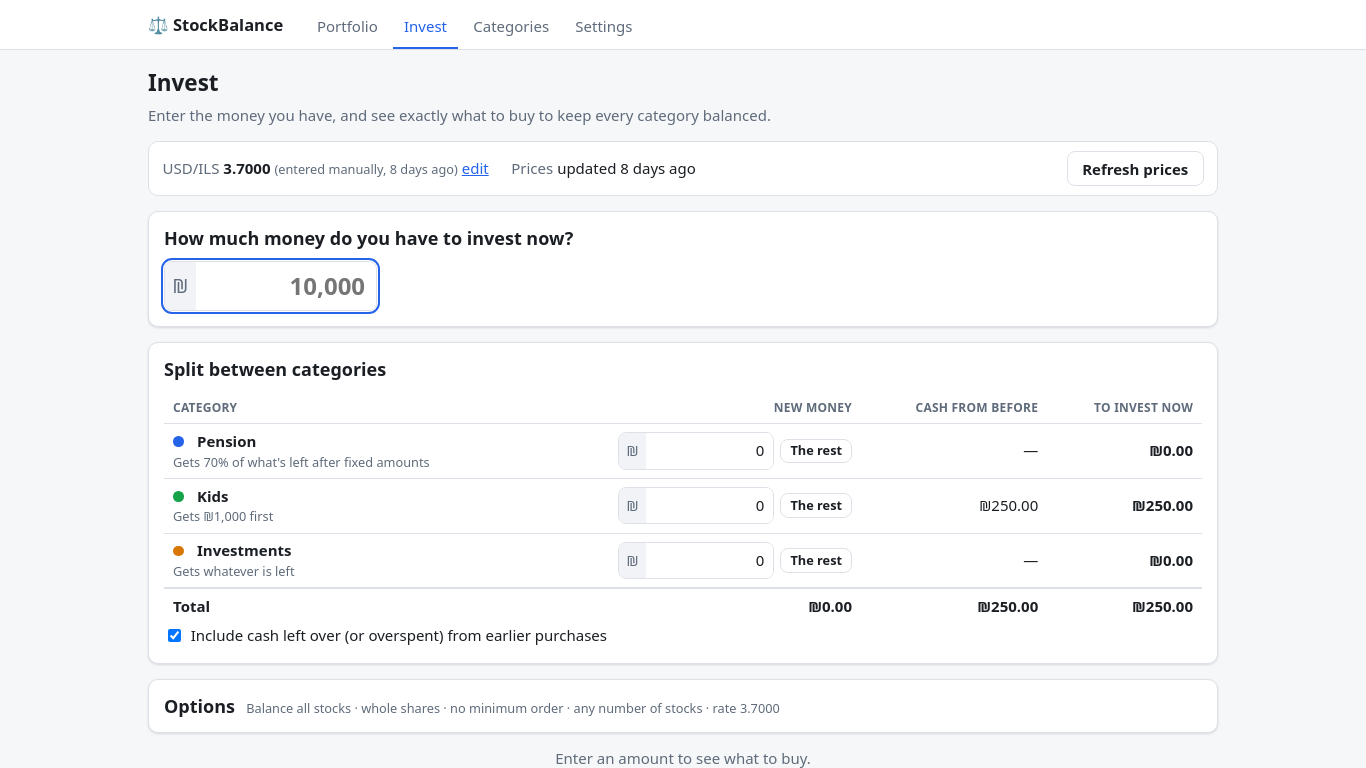
Test: InvestPage › records the purchase into holdings, cash and the purchase list, and can undo it
In the field named "Amount to invest in ILS": [286, 286] box [196, 262, 376, 310], type "10000"
(page scrolled)
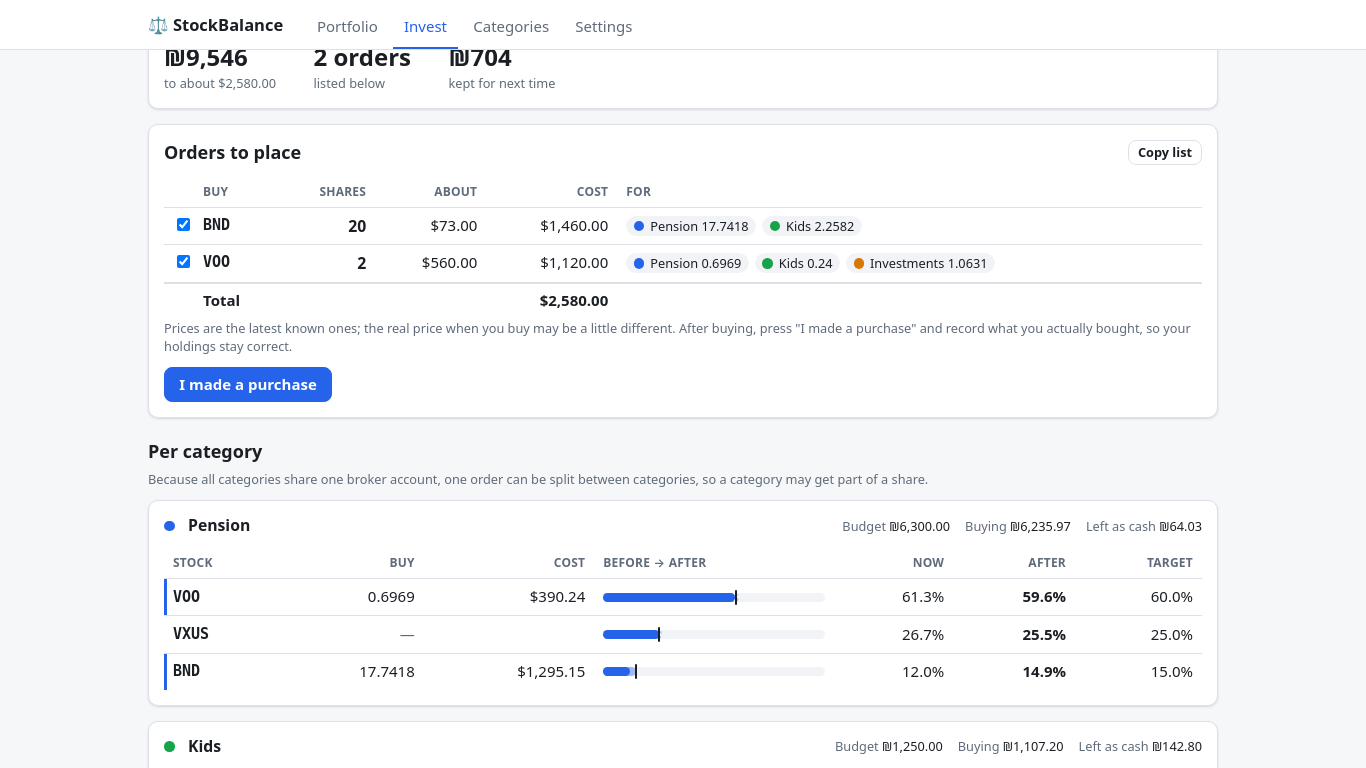
Click the button "I made a purchase": [248, 384] box [164, 367, 332, 402]
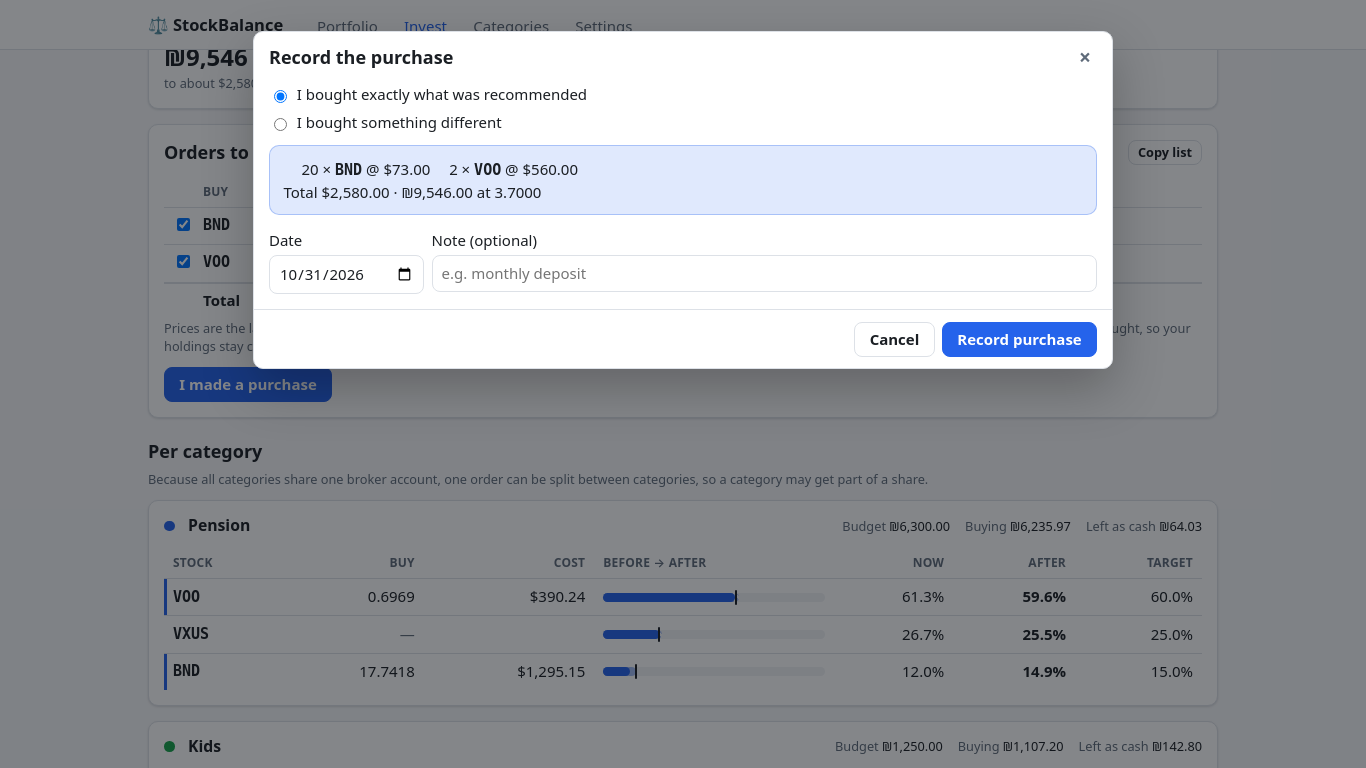
Click the button "Record purchase": [1020, 339] box [942, 322, 1097, 357]
(page scrolled)
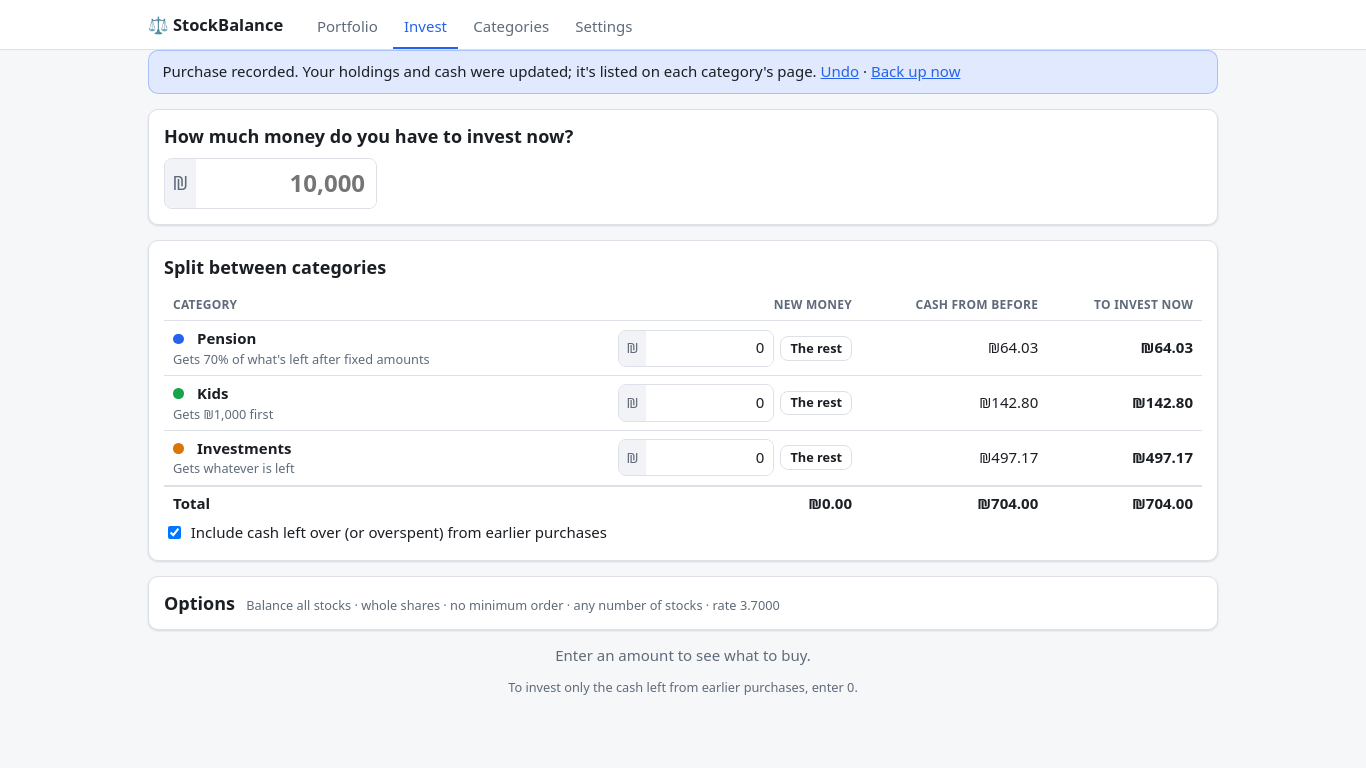
Expected: the dialog is gone
Expected: the text "Purchase recorded" is shown, [162, 61, 817, 81]
Expected: the field named "Amount to invest in ILS" is empty, [196, 159, 376, 208]
// A mistake can be undone right away.
Click the button "Undo": [840, 71] box [820, 62, 859, 80]
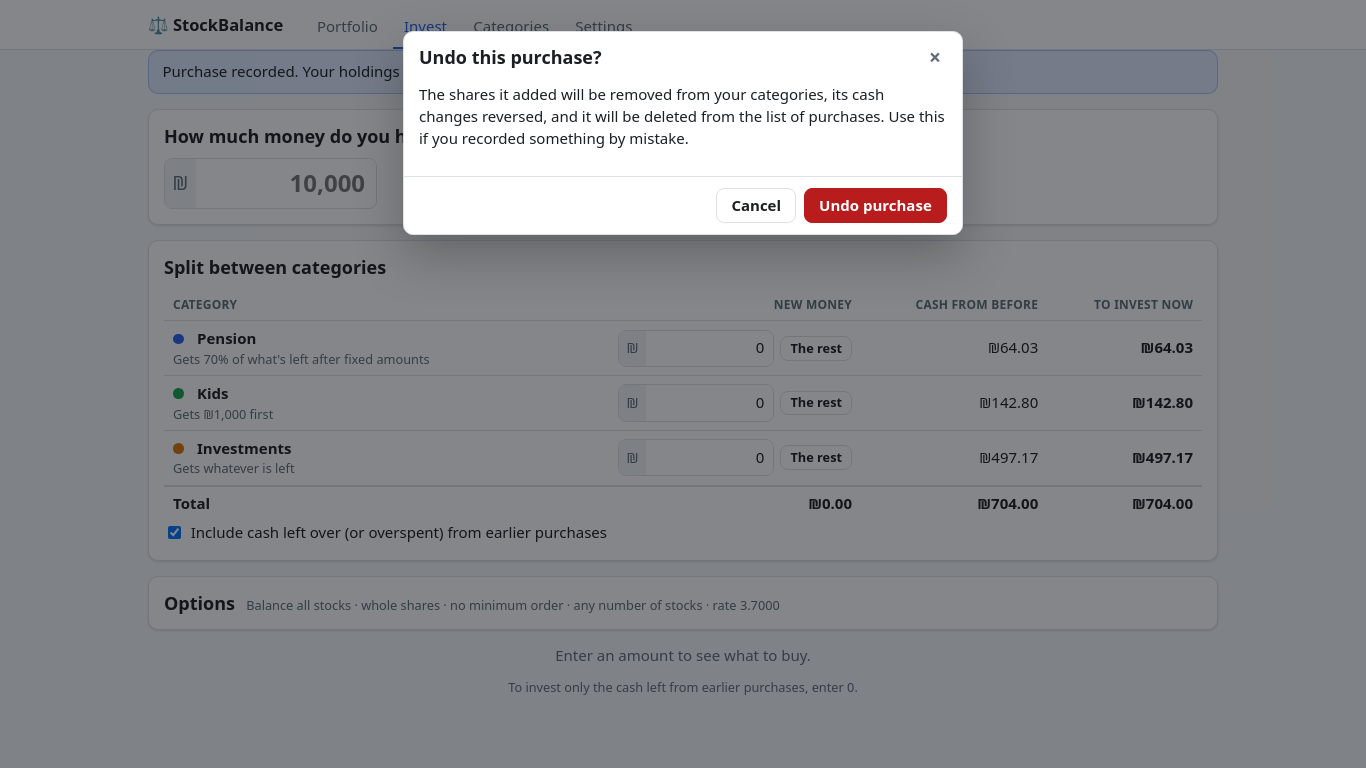
Click the button "Undo purchase": [875, 206] box [804, 188, 947, 223]
(page scrolled)
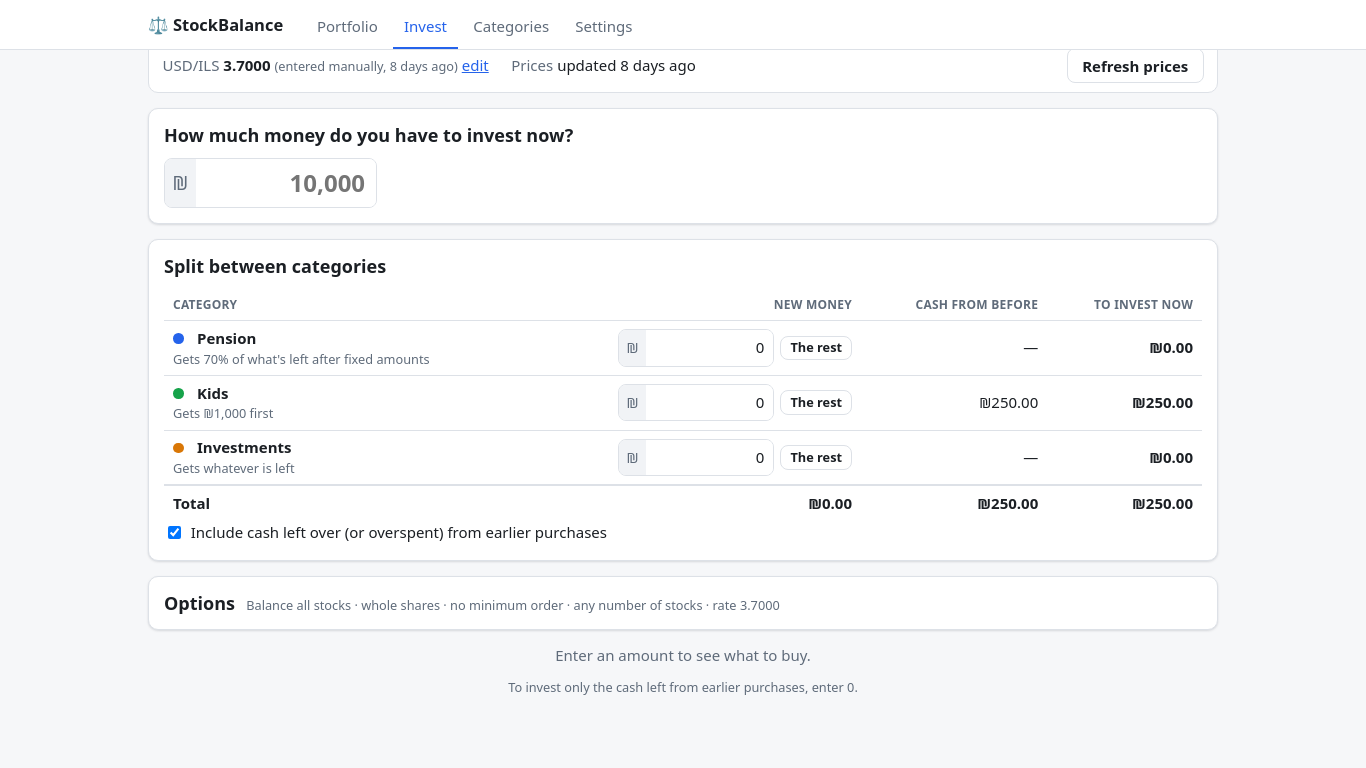
Expected: the text "Purchase recorded" is gone
